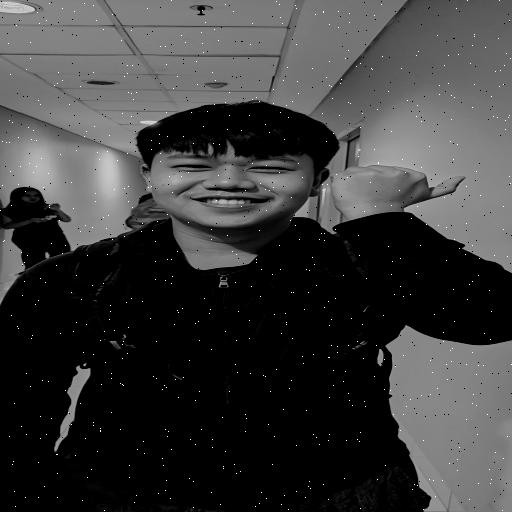back: (295, 152, 481, 230)
